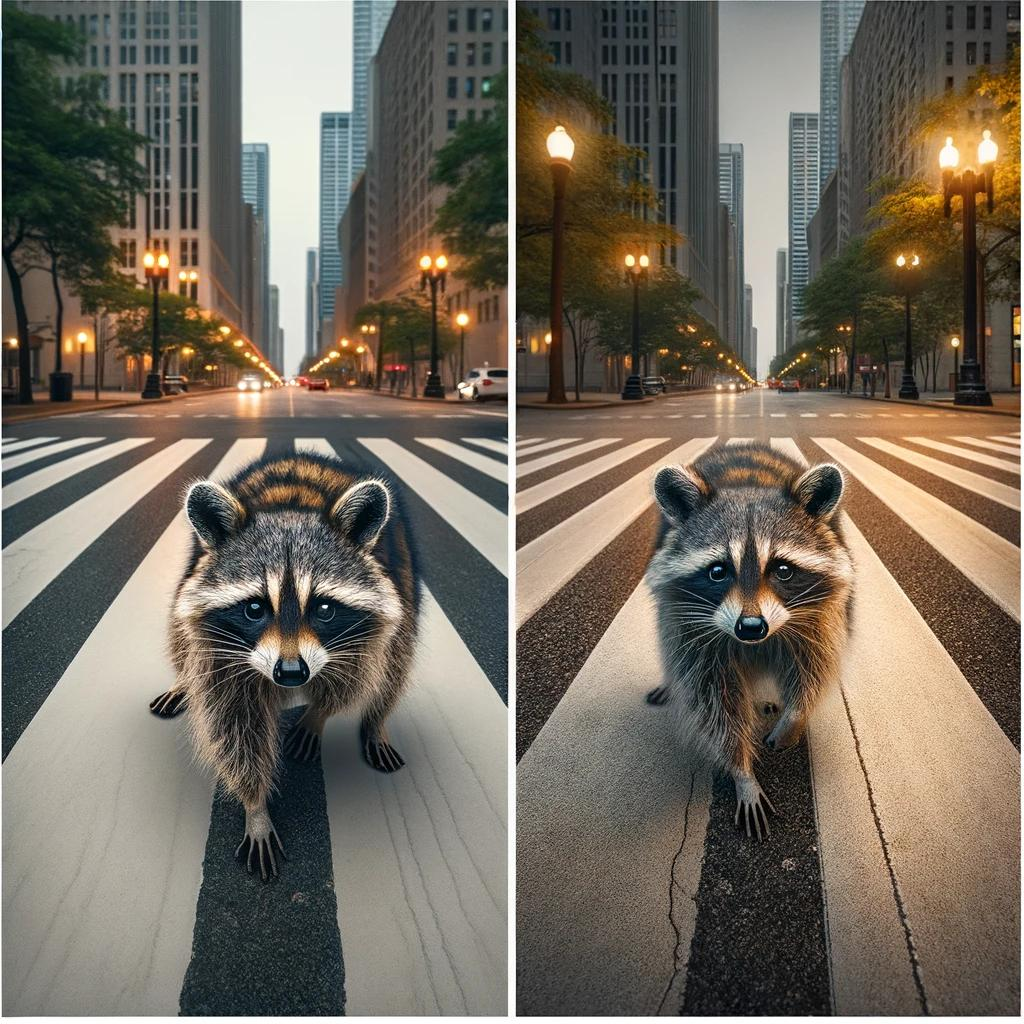raccoon: (150, 438, 433, 812), (630, 428, 872, 765)
